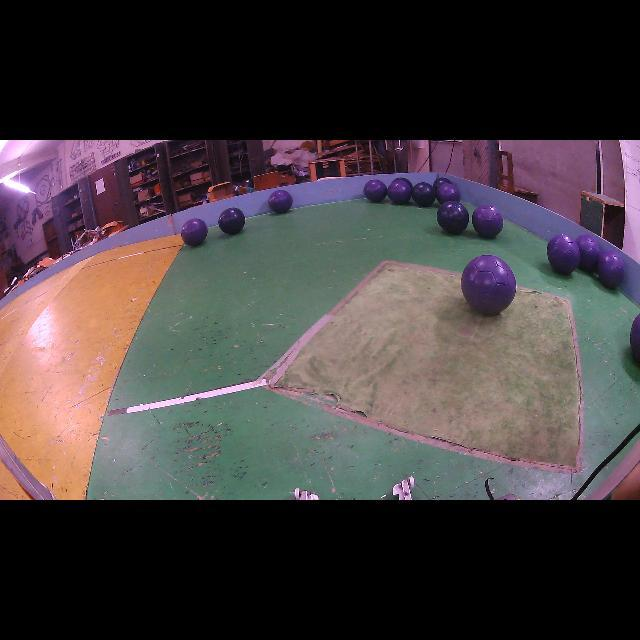B: (436, 201, 469, 234), (219, 208, 245, 235), (411, 182, 436, 207), (630, 314, 640, 362), (432, 178, 451, 191)
P: (461, 255, 516, 315), (548, 234, 580, 275), (472, 205, 504, 238), (598, 250, 625, 289), (575, 235, 600, 271), (181, 219, 208, 246), (269, 190, 292, 214), (388, 180, 411, 204), (364, 180, 388, 202), (436, 184, 460, 204)
